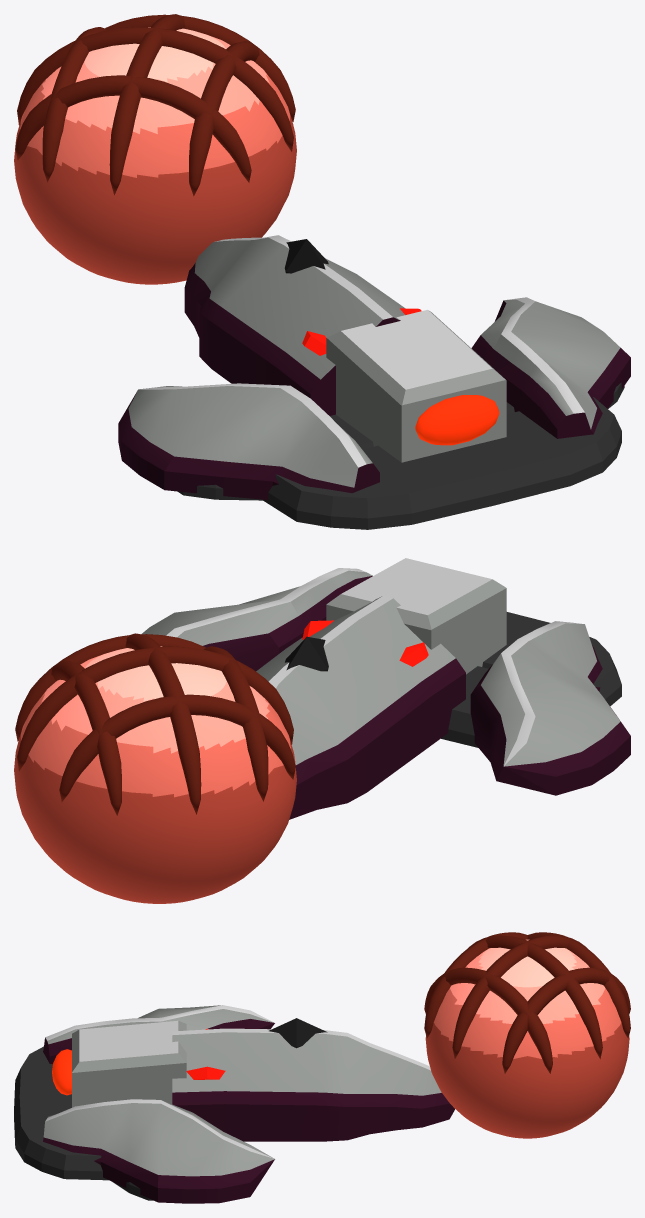
File: pu_xega_ball.glb
The picture shows the model from 3 angles, top to bottom: view 1: azimuth 30°, elevation 25°; view 2: azimuth 150°, elevation 25°; view 3: azimuth 270°, elevation 25°; orthographic projection. The views are drawn at different scales.
Parts seen in each view (by area): view 1: xega, blade_left, spire, base_rear, block, blade_right, xega_rib45_0, xega_rib45_1, xega_rib-45_1, exhaust, xega_rib-45_2, xega_rib-45_0 (+3 smaller); view 2: xega, spire, blade_left, block, blade_right, xega_rib-45_0, xega_rib-45_1, xega_rib45_1, xega_rib45_2, xega_rib45_0, xega_rib-45_2, base_rear (+2 smaller); view 3: spire, xega, blade_right, block, base_rear, blade_left, xega_rib-45_2, xega_rib45_2, xega_rib-45_1, xega_rib45_1, xega_rib45_0, xega_rib-45_0 (+3 smaller).
Part boxes in pixels (x1=…): xega: x1=14, y1=27, x2=296, y2=284; blade_left: x1=118, y1=383, x2=379, y2=499; spire: x1=184, y1=235, x2=405, y2=415; base_rear: x1=263, y1=397, x2=621, y2=529; block: x1=326, y1=309, x2=506, y2=462; blade_right: x1=471, y1=297, x2=630, y2=438; xega_rib45_0: x1=15, y1=75, x2=251, y2=182; xega_rib45_1: x1=17, y1=27, x2=293, y2=151; xega_rib-45_1: x1=109, y1=14, x2=185, y2=195; exhaust: x1=415, y1=395, x2=499, y2=445; xega_rib-45_2: x1=189, y1=41, x2=259, y2=196; xega_rib-45_0: x1=42, y1=27, x2=107, y2=182; xega: x1=14, y1=646, x2=296, y2=903; spire: x1=256, y1=596, x2=465, y2=819; blade_left: x1=470, y1=621, x2=630, y2=795; block: x1=326, y1=558, x2=506, y2=674; blade_right: x1=141, y1=568, x2=372, y2=671; xega_rib-45_0: x1=59, y1=694, x2=295, y2=802; xega_rib-45_1: x1=17, y1=646, x2=293, y2=771; xega_rib45_1: x1=125, y1=633, x2=201, y2=814; xega_rib45_2: x1=51, y1=660, x2=121, y2=815; xega_rib45_0: x1=204, y1=646, x2=268, y2=801; xega_rib-45_2: x1=15, y1=634, x2=205, y2=741; base_rear: x1=482, y1=612, x2=621, y2=706; spire: x1=172, y1=1028, x2=454, y2=1141; xega: x1=425, y1=939, x2=629, y2=1138; blade_right: x1=43, y1=1099, x2=274, y2=1203; block: x1=72, y1=1020, x2=186, y2=1107; base_rear: x1=14, y1=1046, x2=108, y2=1180; blade_left: x1=43, y1=1005, x2=274, y2=1063; xega_rib-45_2: x1=424, y1=967, x2=552, y2=1073; xega_rib45_2: x1=502, y1=967, x2=630, y2=1073; xega_rib-45_1: x1=468, y1=935, x2=602, y2=1059; xega_rib45_1: x1=452, y1=935, x2=586, y2=1058; xega_rib45_0: x1=424, y1=932, x2=527, y2=1038; xega_rib-45_0: x1=527, y1=932, x2=630, y2=1038.
Size of the model in its own units: 13.1 by 6.12 by 19.36.
